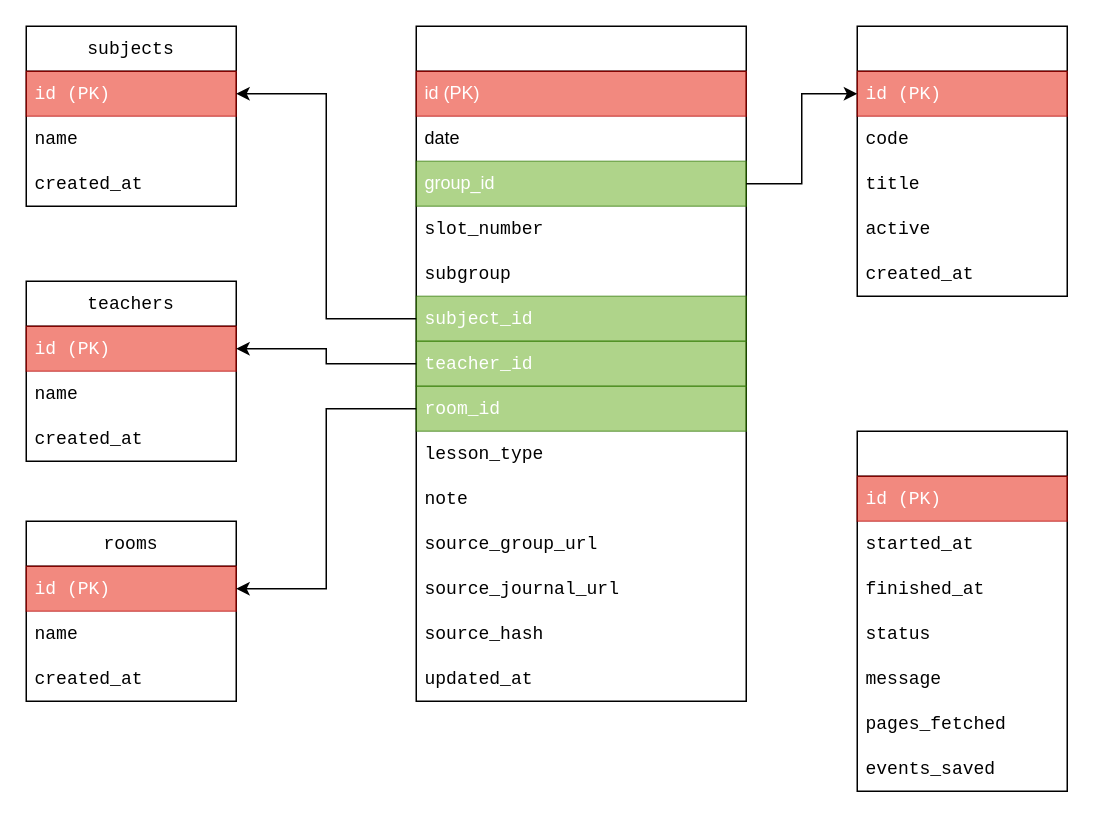
Some shapes in this 1094 by 818 pixel diagram are drawn without their labels. The box of each missing label's shape, as (x1, y1, x2, y2) in pixels:
groups: (856, 25, 1067, 296)
lesson_events: (415, 25, 746, 701)
parser_runs: (856, 430, 1067, 791)
